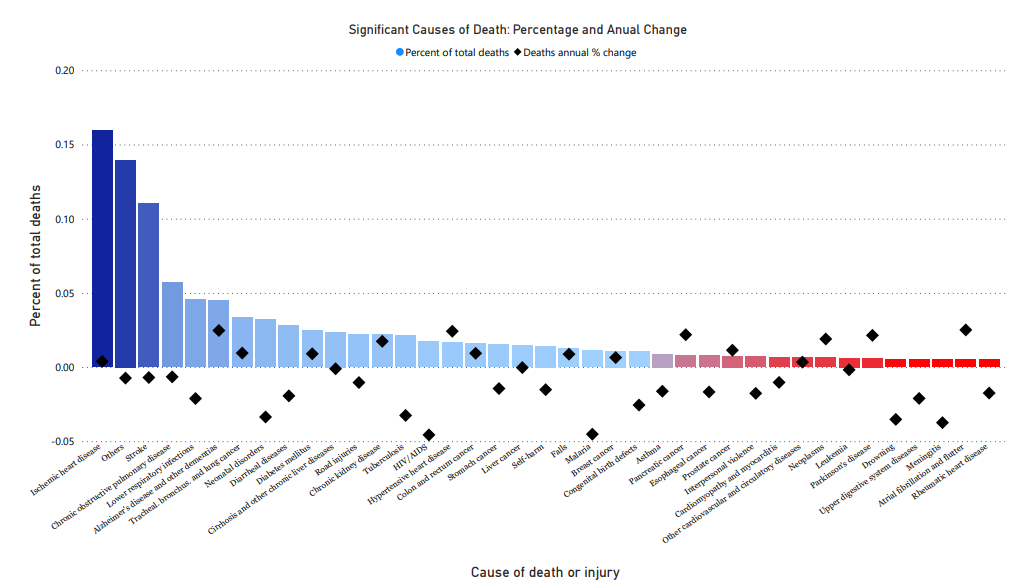

The dashboard page shown, as its layout file describes it:
{"tool":"powerbi","page":{"name":"Page 1","canvas":[1280,720],"ordinal":0},"visuals":[{"type":"lineStackedColumnComboChart","title":"Significant Causes of Death:  Percentage and Anual Change","fields":{"Category":["deaths.Classification_Cause"],"Y2":["Avg(deaths.Deaths annual % change)"],"Y":["Sum(deaths.Percent of total deaths)"]},"box":[10,0,1269,720],"z":0}]}

Visuals, with their boxes in screenshot pixels (x1, y1, x2, y2), scaled from the page's 1280x720 canvas onto the 1011x585 screenshot:
"Significant Causes of Death:  Percentage and Anual Change" lineStackedColumnComboChart: bbox=(8, 0, 1010, 584)
